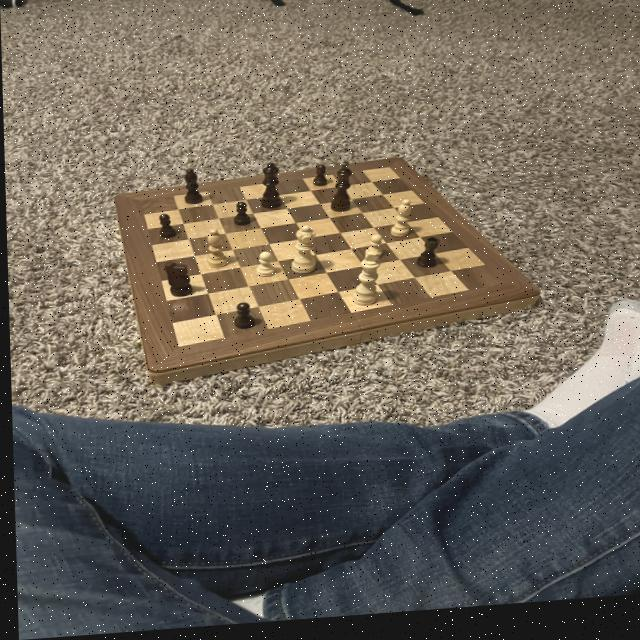bishop: (176, 167, 205, 211)
black-bishop: (327, 160, 355, 220)
black-king: (161, 260, 192, 303)
black-knight: (225, 301, 260, 338), (153, 212, 179, 244), (230, 203, 253, 232), (311, 168, 329, 193)
black-pawn: (256, 163, 283, 218)
black-queen: (410, 240, 441, 277)
black-rook: (201, 229, 230, 275), (386, 203, 412, 247)
white-bishop: (347, 257, 380, 314)
white-knight: (253, 254, 274, 284), (362, 238, 384, 266)
white-pawn: (286, 228, 319, 283)
